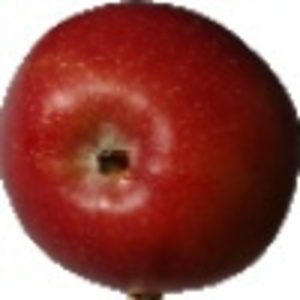maçã braeburn: (1, 2, 300, 294)
